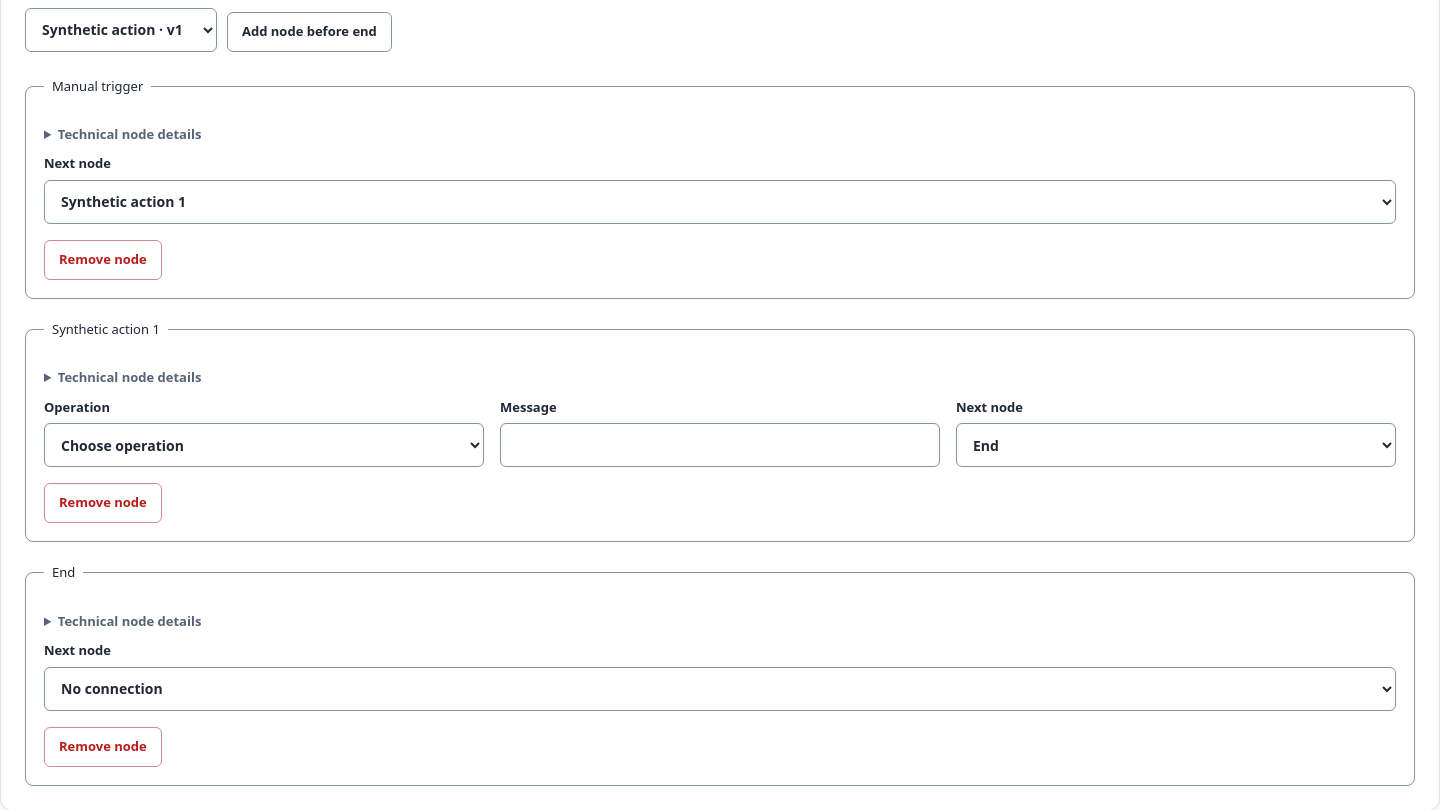
Test: keeps invalid saved configuration correctable without coercing arbitrary objects
(page scrolled)
Step 1. Select "record" in the dropdown labelled "Operation" → (264, 445), box [44,423,484,467]
(page scrolled)
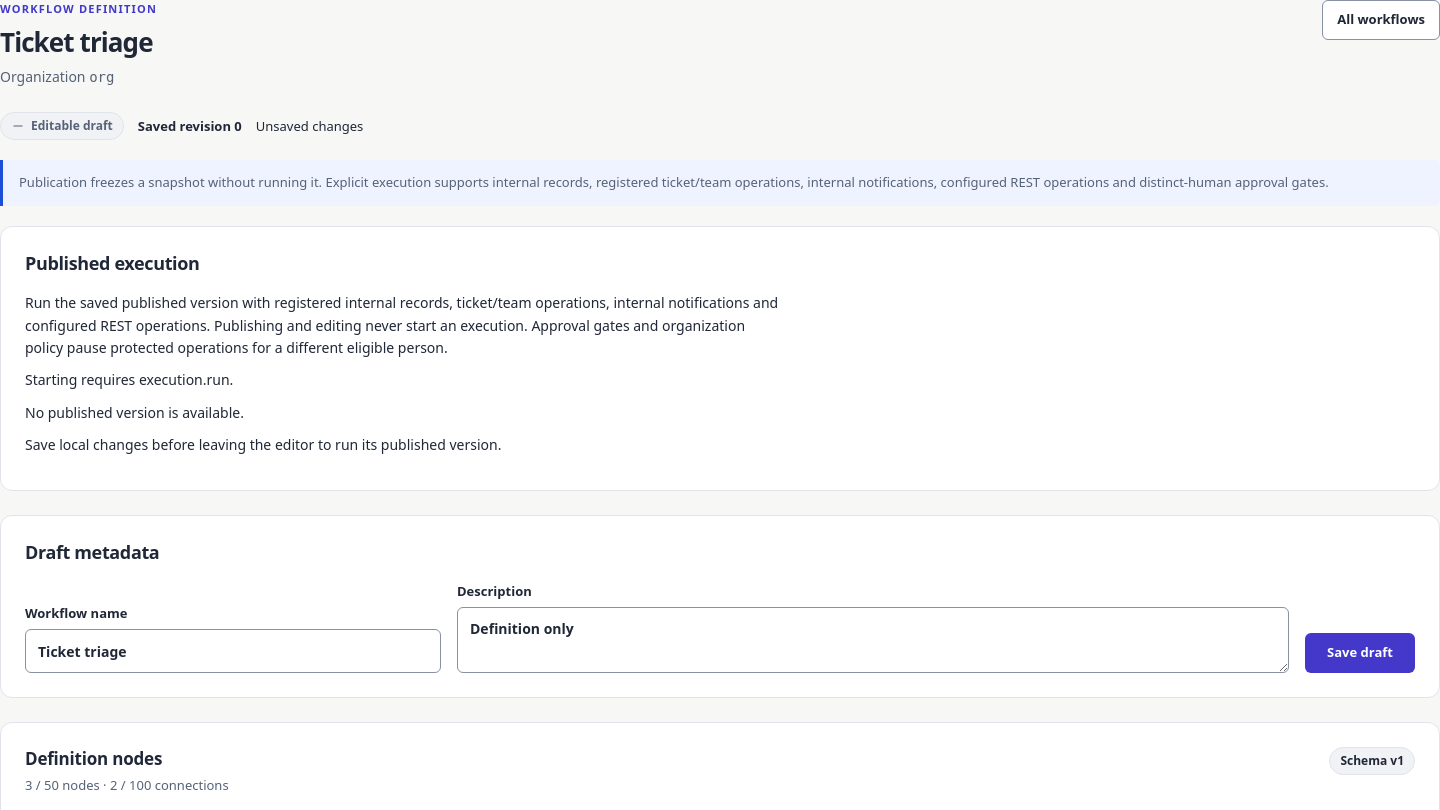
Expected: the text "Unsaved changes" is shown, [256,116,363,137]
